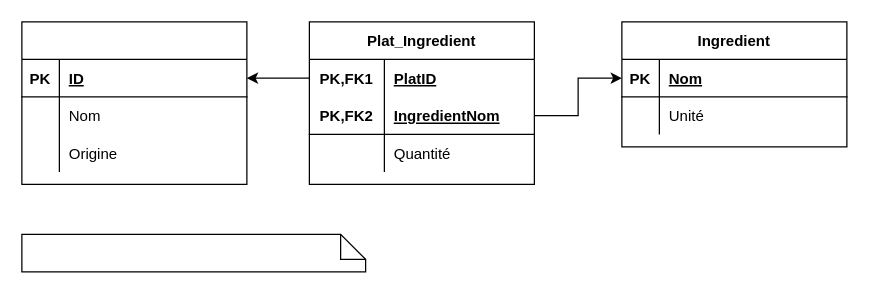
This 869x294 diagram has some shape labels left out. Here are the shapes that lost their labels. From the top down, the box of each, then its label:
(21, 21, 247, 184): Plat
(21, 233, 366, 272): Quantité doit être supérieure à 0.
